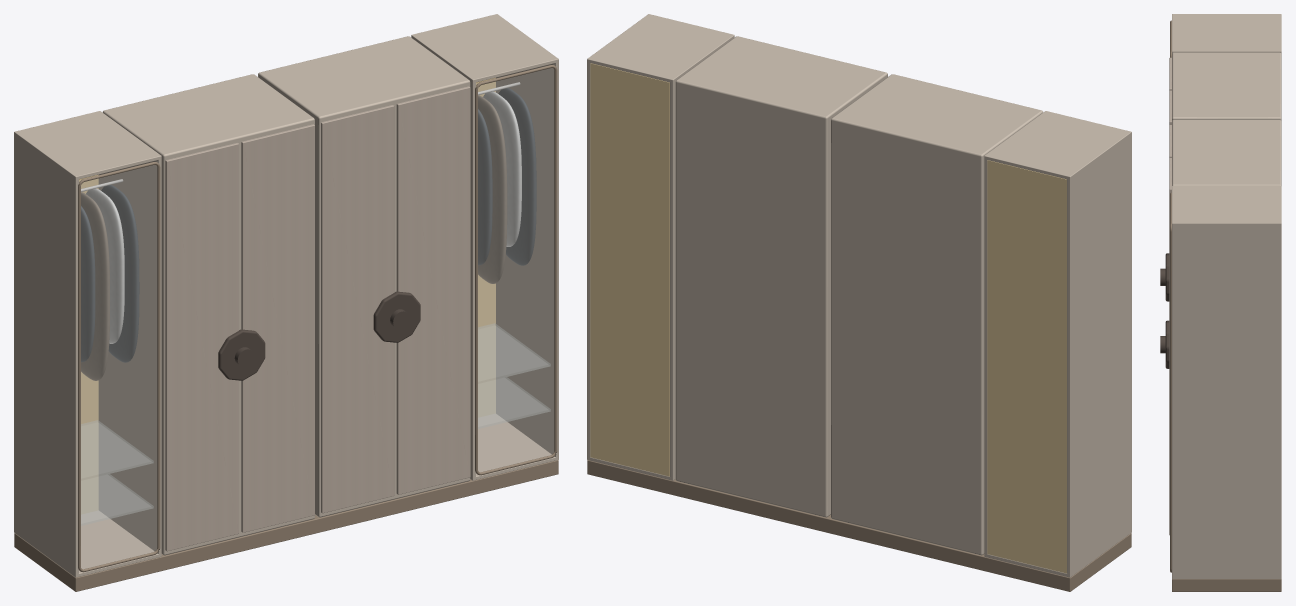
Rendered from neva-bed-set-with-wardrobe--wardrobe.glb.
3 renders of one model, left to right at view 1: azimuth 30°, elevation 25°; view 2: azimuth 150°, elevation 25°; view 3: azimuth 270°, elevation 25°, orthographic. The views are drawn at different scales.
Visible parts, largest first — view 1: glassdoor-1, glassdoor1, door11, door00, door10, door01, case-1_side-1, case-1_side1, case1_side1, case1, case0, plinth (+23 smaller); view 2: case1, case0, case1_back, case-1_back, case-1_side-1, plinth, case1_top, case-1_top, case1_side-1, case-1_side1, case1_side1; view 3: case1_side1, case0, case1, case1_top, case-1_top, plinth, doorframe1, door11, case-1_side1, med0, med1.
Boxes of the visible parts, bbox=[...] form: glassdoor-1: bbox=[79, 161, 157, 568]; glassdoor1: bbox=[476, 68, 553, 474]; door11: bbox=[396, 86, 470, 494]; door00: bbox=[165, 143, 238, 551]; door10: bbox=[321, 105, 394, 513]; door01: bbox=[241, 124, 314, 532]; case-1_side-1: bbox=[14, 131, 78, 577]; case-1_side1: bbox=[97, 111, 161, 554]; case1_side1: bbox=[495, 14, 558, 457]; case1: bbox=[258, 36, 470, 517]; case0: bbox=[102, 74, 314, 555]; plinth: bbox=[14, 460, 558, 591]; case1: bbox=[675, 36, 887, 517]; case0: bbox=[831, 74, 1043, 555]; case1_back: bbox=[590, 63, 669, 476]; case-1_back: bbox=[987, 160, 1066, 573]; case-1_side-1: bbox=[1067, 131, 1131, 577]; plinth: bbox=[587, 460, 1131, 591]; case1_top: bbox=[587, 14, 734, 82]; case-1_top: bbox=[984, 111, 1131, 179]; case1_side-1: bbox=[670, 34, 734, 480]; case-1_side1: bbox=[984, 111, 1047, 557]; case1_side1: bbox=[587, 14, 650, 460]; case1_side1: bbox=[1172, 222, 1281, 579]; case0: bbox=[1172, 52, 1281, 120]; case1: bbox=[1172, 120, 1281, 185]; case1_top: bbox=[1172, 187, 1281, 221]; case-1_top: bbox=[1172, 15, 1281, 49]; plinth: bbox=[1172, 579, 1281, 591]; doorframe1: bbox=[1170, 192, 1171, 572]; door11: bbox=[1169, 158, 1171, 535]; case-1_side1: bbox=[1172, 50, 1281, 53]; med0: bbox=[1165, 253, 1169, 301]; med1: bbox=[1165, 320, 1169, 368].
Bounding box in the file's own units: 2.8 × 2.3 × 0.685.
Materials: 11 (4 with a texture image).
